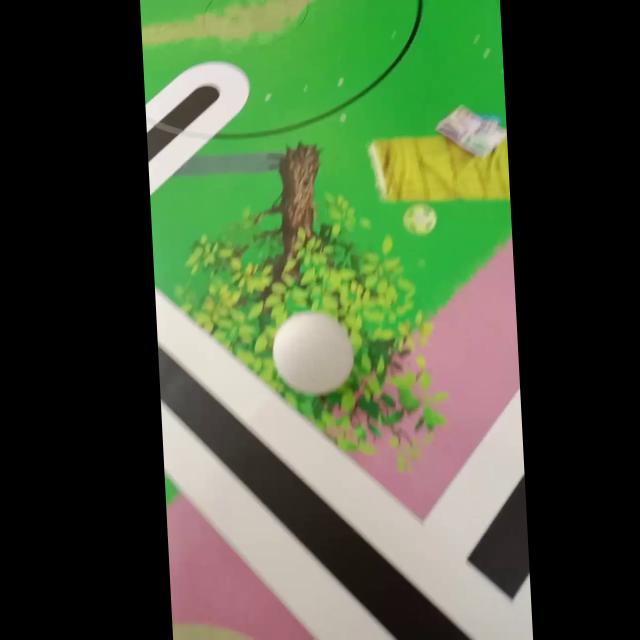white ball: (269, 310, 356, 396)
